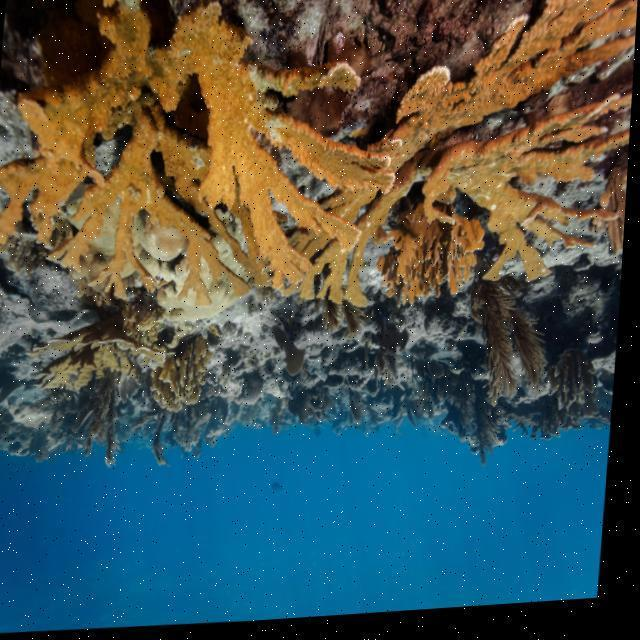Healthy Coral: (0, 0, 640, 326), (33, 304, 174, 408), (160, 335, 222, 418)
